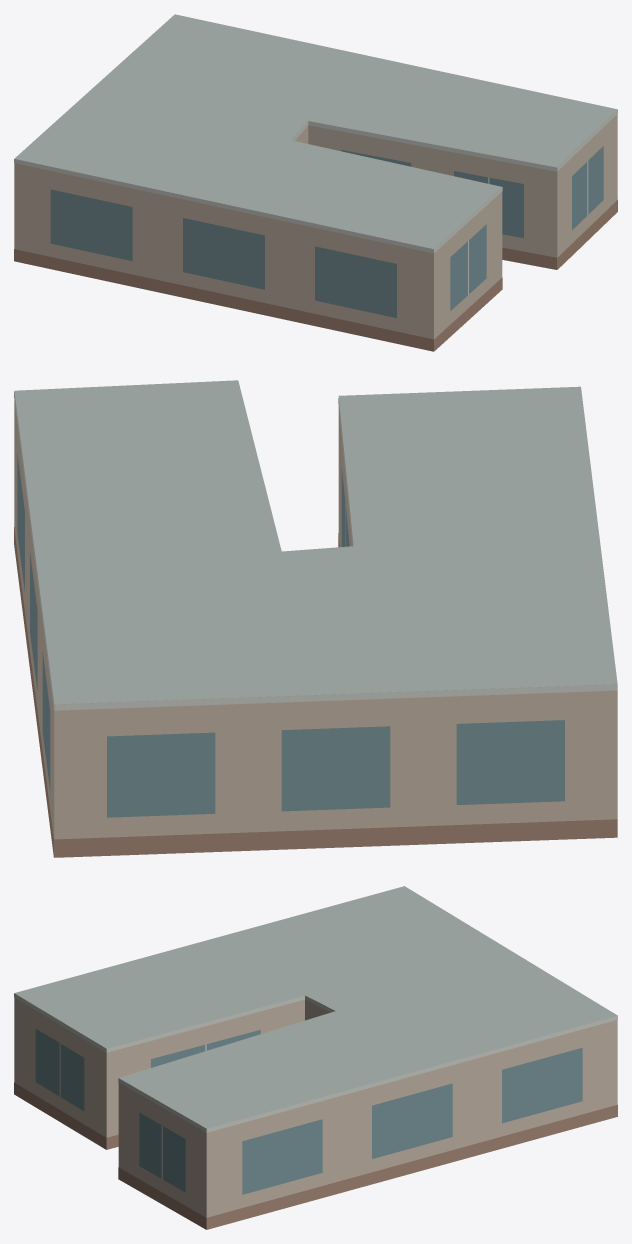
File: survey-upis-32946805.glb
3 renders of one model, top to bottom at view 1: azimuth 30°, elevation 25°; view 2: azimuth 150°, elevation 25°; view 3: azimuth 270°, elevation 25°, orthographic. The views are drawn at different scales.
Parts seen in each view (by area): view 1: survey-upis-32946805.tmp; view 2: survey-upis-32946805.tmp; view 3: survey-upis-32946805.tmp.
Boxes of the visible parts, left/top/right/bottom form: survey-upis-32946805.tmp: left=14, top=14, right=617, bottom=351; survey-upis-32946805.tmp: left=14, top=380, right=617, bottom=857; survey-upis-32946805.tmp: left=14, top=886, right=617, bottom=1229.
Bounding box in the file's own units: 15.7 × 3.05 × 16.5.
